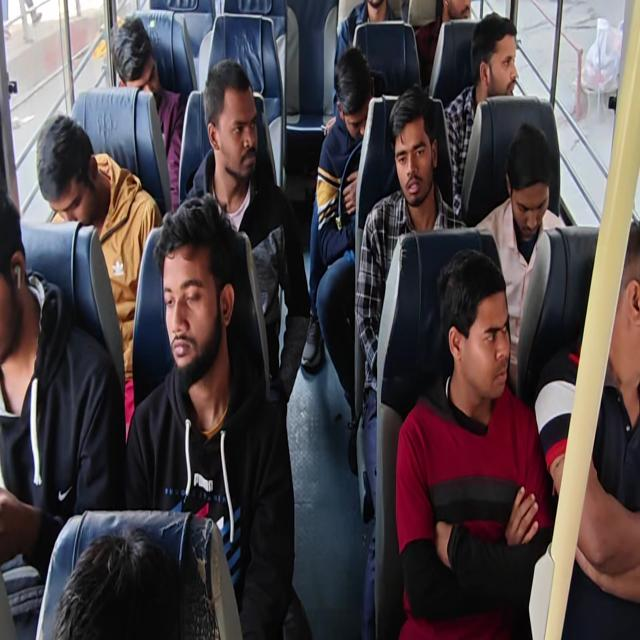person: (435, 244, 527, 408), (159, 194, 238, 383), (58, 525, 181, 640), (595, 202, 640, 424), (199, 52, 261, 186), (34, 105, 96, 225), (474, 11, 541, 118), (395, 83, 444, 222), (506, 116, 560, 234), (104, 3, 165, 105), (0, 184, 32, 346), (332, 45, 378, 145), (360, 0, 410, 24), (442, 0, 496, 21)
